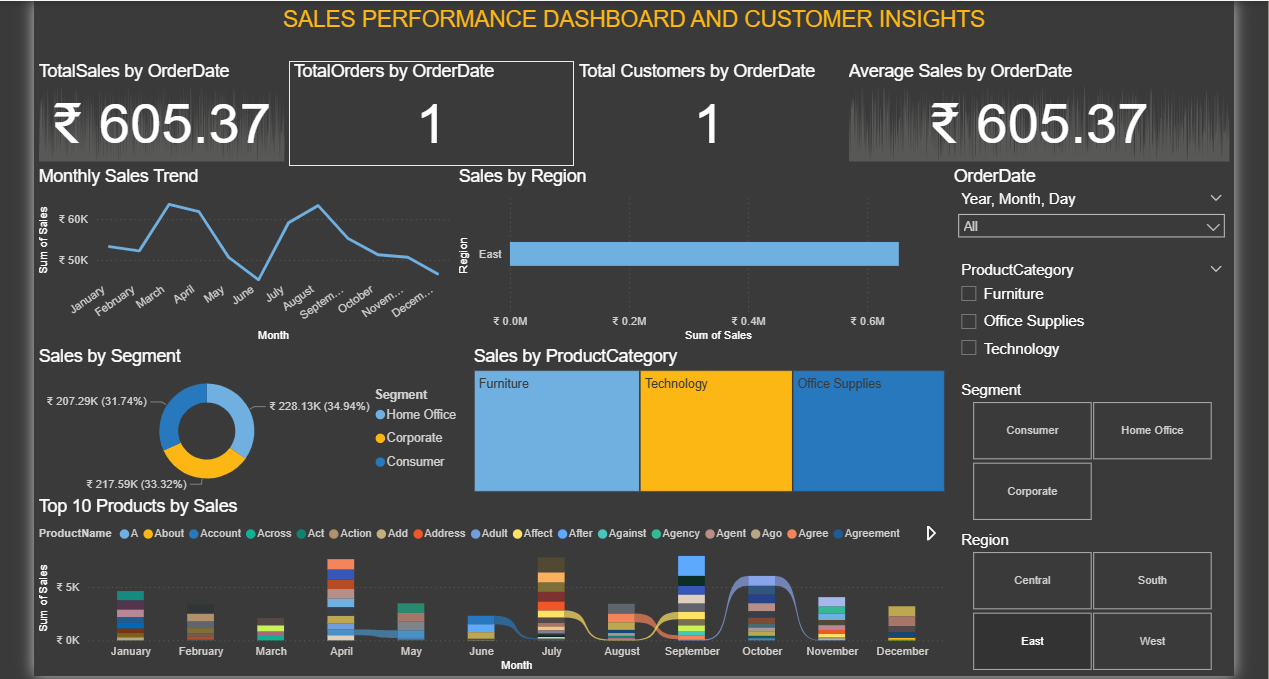

The page's visual inventory and layout, read from the dashboard file:
{"tool":"powerbi","page":{"name":"Page 1","canvas":[1280,720],"ordinal":0},"visuals":[{"type":"kpi","fields":{"Indicator":["Sum(cleaned_sales_data_by_python.Sales)"],"TrendLine":["cleaned_sales_data_by_python.OrderDate"]},"box":[0,64,272,112],"z":0},{"type":"kpi","fields":{"Indicator":["CountNonNull(cleaned_sales_data_by_python.OrderID)"],"TrendLine":["cleaned_sales_data_by_python.OrderDate"]},"box":[272,64,304,112],"z":1000},{"type":"kpi","fields":{"Indicator":["CountNonNull(cleaned_sales_data_by_python.CustomerID)"],"TrendLine":["cleaned_sales_data_by_python.OrderDate"]},"box":[576,64,288,112],"z":2000},{"type":"kpi","fields":{"Indicator":["Avg(cleaned_sales_data_by_python.Sales)"],"TrendLine":["cleaned_sales_data_by_python.OrderDate"]},"box":[864,64,416,112],"z":3000},{"type":"lineChart","title":"Monthly Sales Trend","fields":{"Y":["Sum(cleaned_sales_data_by_python.Sales)"],"Category":["cleaned_sales_data_by_python.OrderDate.Variation.Date Hierarchy.Month"]},"box":[0,176,448,192],"z":4000},{"type":"clusteredBarChart","title":"Sales by Region","fields":{"Y":["Sum(cleaned_sales_data_by_python.Sales)"],"Category":["cleaned_sales_data_by_python.Region"]},"box":[448,176,528,192],"z":5000},{"type":"donutChart","fields":{"Category":["cleaned_sales_data_by_python.Segment"],"Y":["Sum(cleaned_sales_data_by_python.Sales)"]},"box":[0,368,464,160],"z":6000},{"type":"treemap","fields":{"Group":["cleaned_sales_data_by_python.ProductCategory"],"Values":["Sum(cleaned_sales_data_by_python.Sales)"]},"box":[464,368,512,160],"z":7000},{"type":"slicer","title":"OrderDate","fields":{"Values":["cleaned_sales_data_by_python.OrderDate.Variation.Date Hierarchy.Year","cleaned_sales_data_by_python.OrderDate.Variation.Date Hierarchy.Month","cleaned_sales_data_by_python.OrderDate.Variation.Date Hierarchy.Day"]},"box":[976,176,304,112],"z":8000},{"type":"slicer","fields":{"Values":["cleaned_sales_data_by_python.Region"]},"box":[976,560,304,160],"z":9000},{"type":"slicer","fields":{"Values":["cleaned_sales_data_by_python.Segment"]},"box":[976,400,304,160],"z":10000},{"type":"slicer","fields":{"Values":["cleaned_sales_data_by_python.ProductCategory"]},"box":[976,272,304,128],"z":11000},{"type":"ribbonChart","title":"Top 10 Products by Sales","fields":{"Category":["cleaned_sales_data_by_python.OrderDate.Variation.Date Hierarchy.Month"],"Y":["Sum(cleaned_sales_data_by_python.Sales)"],"Series":["cleaned_sales_data_by_python.ProductName"]},"box":[0,528,976,192],"z":12000},{"type":"textbox","box":[0,0,1280,64],"z":13000}]}

Visuals, with their boxes on the page's 1280x720 design canvas (x1, y1, x2, y2). These are canvas units, not pixel positions in the 1269x679 screenshot, which may show the page scaled, cropped or inside an application window:
kpi - Sum(cleaned_sales_data_by_python.Sales) x cleaned_sales_data_by_python.OrderDate: pyautogui.locateOnScreen(0, 64, 272, 176)
kpi - CountNonNull(cleaned_sales_data_by_python.OrderID) x cleaned_sales_data_by_python.OrderDate: pyautogui.locateOnScreen(272, 64, 576, 176)
kpi - CountNonNull(cleaned_sales_data_by_python.CustomerID) x cleaned_sales_data_by_python.OrderDate: pyautogui.locateOnScreen(576, 64, 864, 176)
kpi - Avg(cleaned_sales_data_by_python.Sales) x cleaned_sales_data_by_python.OrderDate: pyautogui.locateOnScreen(864, 64, 1280, 176)
"Monthly Sales Trend" lineChart: pyautogui.locateOnScreen(0, 176, 448, 368)
"Sales by Region" clusteredBarChart: pyautogui.locateOnScreen(448, 176, 976, 368)
donutChart - cleaned_sales_data_by_python.Segment x Sum(cleaned_sales_data_by_python.Sales): pyautogui.locateOnScreen(0, 368, 464, 528)
treemap - cleaned_sales_data_by_python.ProductCategory x Sum(cleaned_sales_data_by_python.Sales): pyautogui.locateOnScreen(464, 368, 976, 528)
"OrderDate" slicer: pyautogui.locateOnScreen(976, 176, 1280, 288)
slicer - cleaned_sales_data_by_python.Region: pyautogui.locateOnScreen(976, 560, 1280, 720)
slicer - cleaned_sales_data_by_python.Segment: pyautogui.locateOnScreen(976, 400, 1280, 560)
slicer - cleaned_sales_data_by_python.ProductCategory: pyautogui.locateOnScreen(976, 272, 1280, 400)
"Top 10 Products by Sales" ribbonChart: pyautogui.locateOnScreen(0, 528, 976, 720)
textbox: pyautogui.locateOnScreen(0, 0, 1280, 64)
